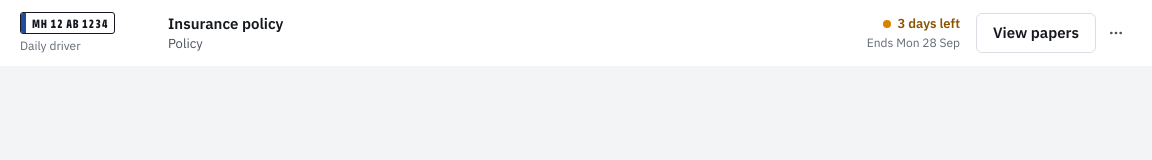
Test case: UpcomingRow › document rows › offers View papers, outlined, for a viewer, but keeps Snooze available
This screenshot has width=1152, height=160.
Click the button named "More actions for Insurance policy".
click(1116, 33)  # box top-left (1100, 17), bottom-right (1132, 49)
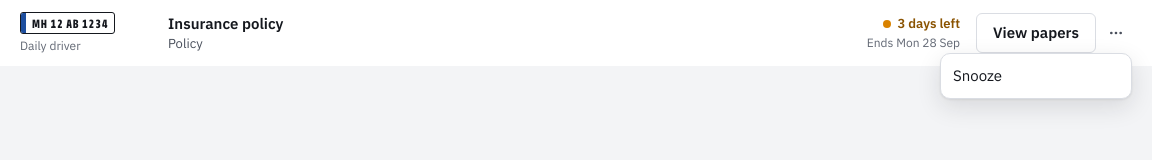
Now the menu item "Snooze" is shown, box top-left (953, 66), bottom-right (1002, 85)
